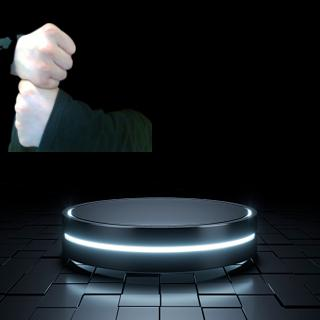CAREFUL: (8, 18, 80, 151)
